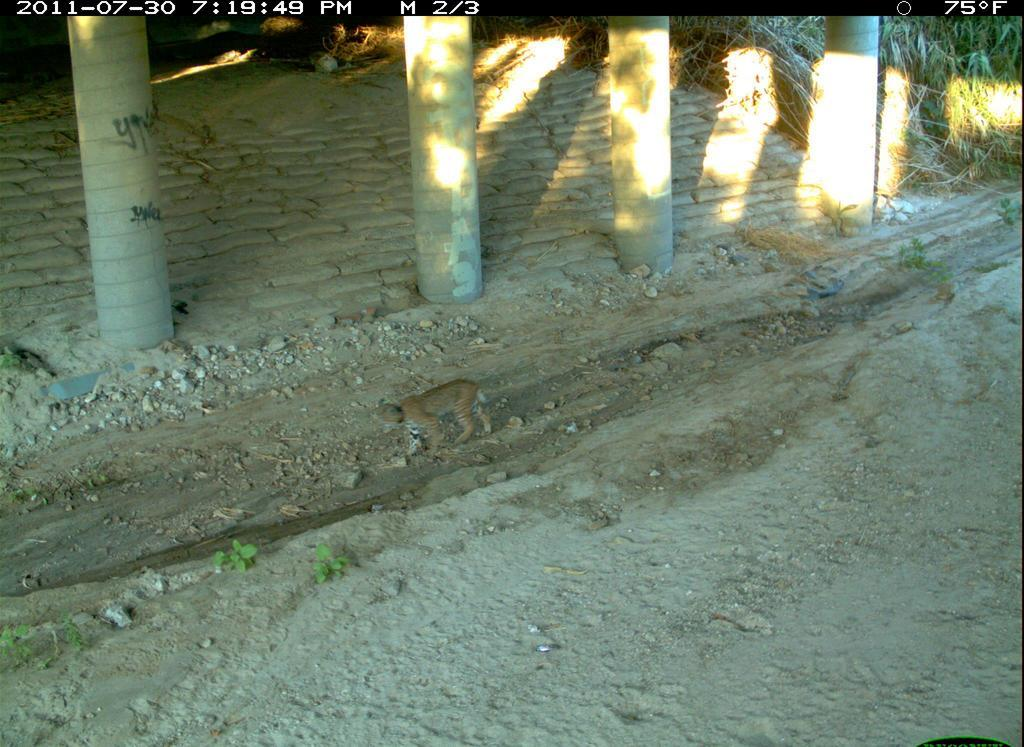bobcat: (731, 743, 991, 747)
